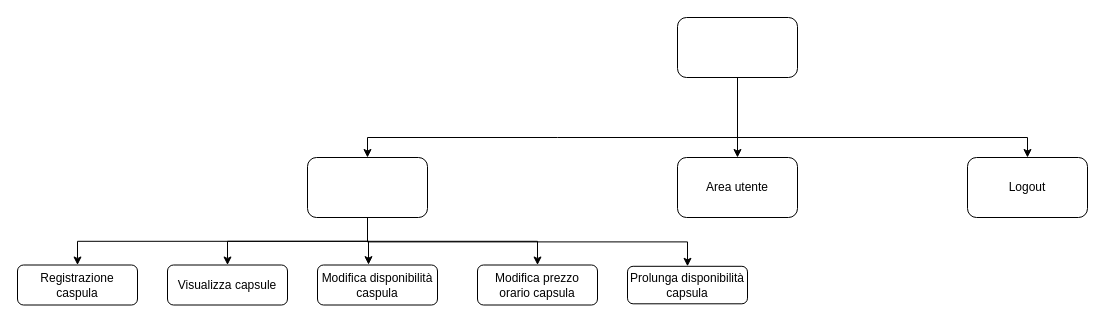
Image size: 1105x323. Some labels were removed from this diagram. Each missing label, with the centre of its shape:
"Area riservata" belongs at (x=367, y=187).
"Homepage" belongs at (x=737, y=47).
